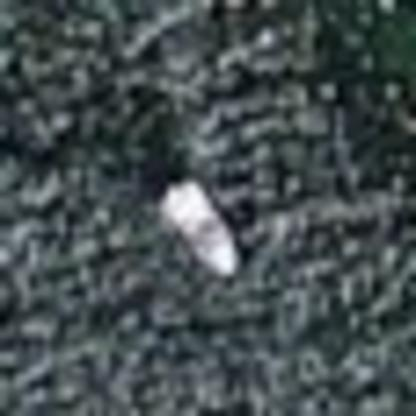ship: (146, 169, 258, 296)
